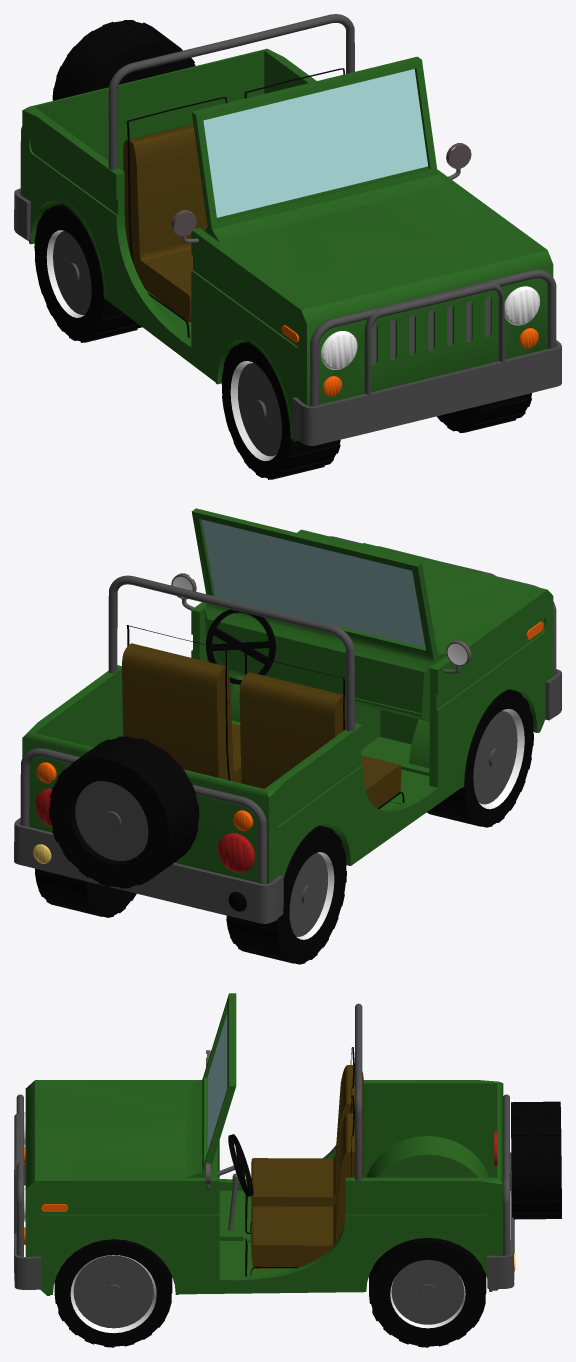
3 views of the same model, one above another, from view 1: azimuth 30°, elevation 25°; view 2: azimuth 150°, elevation 25°; view 3: azimuth 270°, elevation 25° (orthographic). The views are drawn at different scales.
Parts seen in each view (by area): view 1: object 3, Extrude_9, Loft_2, Extrude_7, Extrude_6, Extrude_5, Sweep_4, Sweep_3, Sweep_2, Extrude_4, object 26, Aynalar (+3 smaller); view 2: object 3, Extrude_5, Extrude_11, Extrude_6, Extrude_9, Extrude_7, Loft, Sweep_4, object 26, Sweep, Direksiyon, Extrude_3 (+3 smaller); view 3: object 3, Extrude_6, Extrude_7, Extrude_11, Extrude_5, Extrude_9, object 26, Sweep_4, Loft, Sweep_3, Sweep, Loft_2 (+2 smaller).
Boxes of the visible parts, x1,y1,x2,y2 form: object 3: (22,48,553,441); Extrude_9: (123,124,207,322); Loft_2: (292,340,561,445); Extrude_7: (221,341,531,479); Extrude_6: (34,204,141,342); Extrude_5: (52,20,195,100); Sweep_4: (108,14,354,169); Sweep_3: (310,269,556,406); Sweep_2: (364,281,504,394); Extrude_4: (321,286,539,369); object 26: (29,196,292,438); Aynalar: (171,143,471,243); object 3: (22,508,553,883); Extrude_5: (48,736,199,888); Extrude_11: (122,643,241,783); Extrude_6: (35,825,346,964); Extrude_9: (239,672,401,808); Extrude_7: (427,689,533,827); Loft: (14,818,283,923); Sweep_4: (108,575,354,731); object 26: (231,675,538,920); Sweep: (20,748,266,884); Direksiyon: (206,609,275,684); Extrude_3: (35,788,254,872); object 3: (25,993,503,1295); Extrude_6: (369,1238,486,1347); Extrude_7: (54,1239,172,1347); Extrude_11: (251,1113,363,1268); Extrude_5: (511,1101,561,1219); Extrude_9: (251,1065,363,1207); object 26: (50,1136,492,1294); Sweep_4: (355,1003,362,1180); Loft: (487,1152,514,1288); Sweep_3: (16,1094,23,1256); Sweep: (503,1094,509,1255); Loft_2: (14,1164,41,1289).
Bounding box in the file's own units: 3.14 × 3.1 × 5.96.
